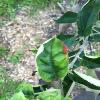Apple leaf: (32, 35, 73, 82)
